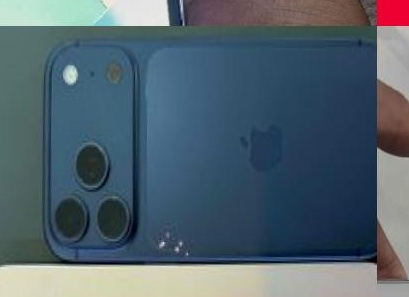scratch: (135, 202, 206, 271)
